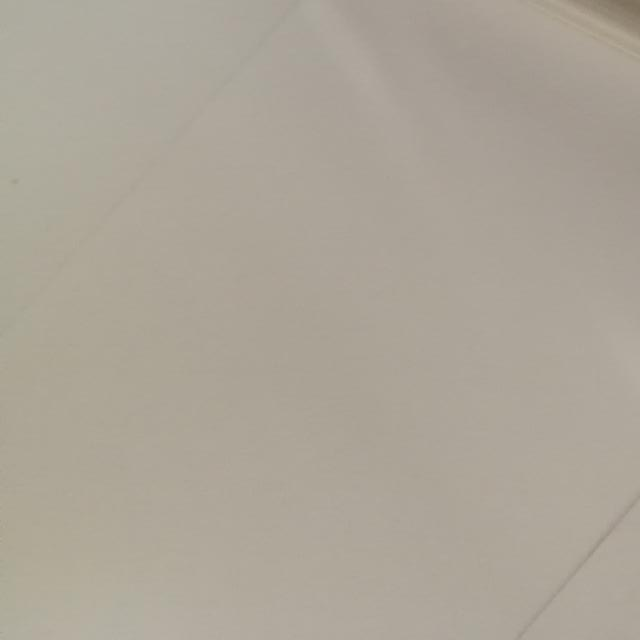fluorescent tube: (43, 0, 640, 310)
